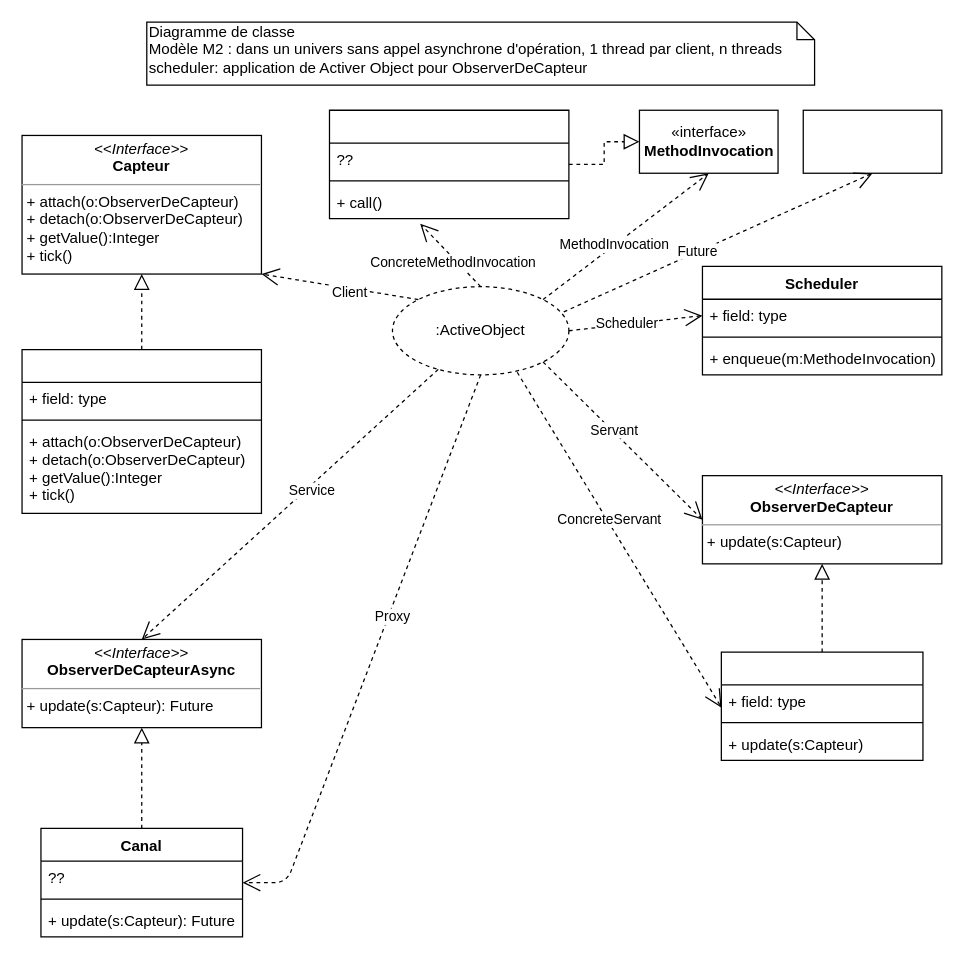
Some shapes in this 964 by 963 pixel diagram are drawn without their labels. The box of each missing label's shape, as (x1, y1, x2, y2) in pixels:
Afficheur: (720, 651, 923, 760)
CapteurImpl: (21, 348, 261, 513)
Update: (328, 109, 569, 219)
«interface» Future: (802, 109, 942, 173)
